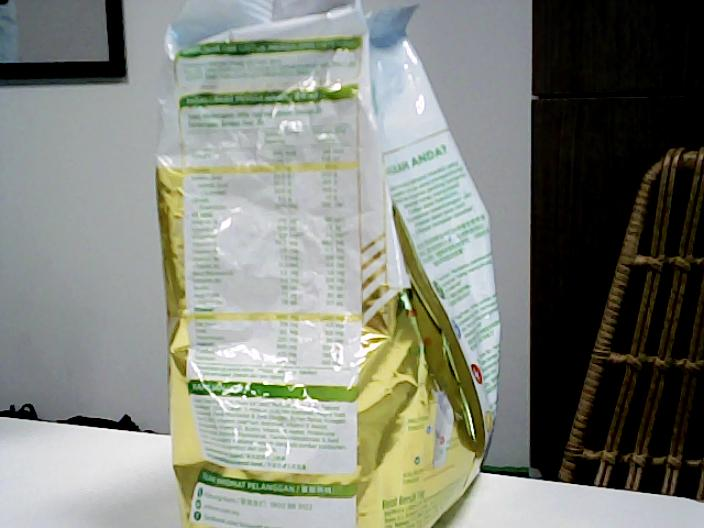Adult_Milk_1000-1999g_Halal_NonHealthy: (150, 1, 500, 528)
